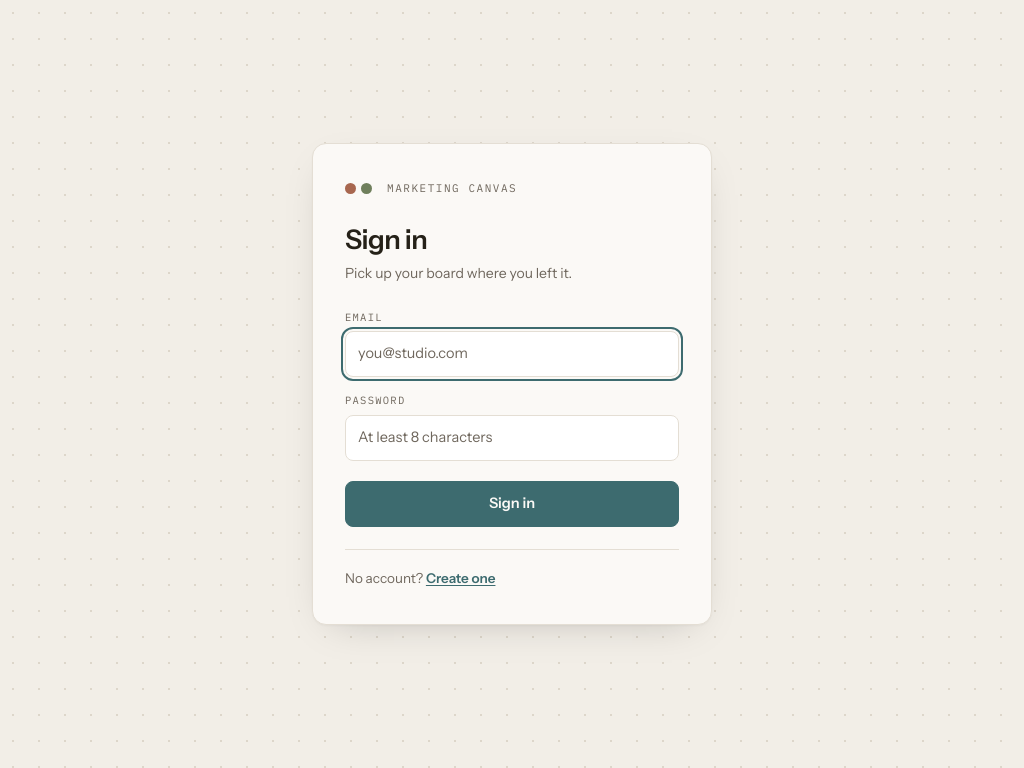
Test: Sign in › clears a field's error as soon as that field is edited
Check: the heading "Sign in" is shown, box [345,223,427,256]
Type "nope" into the field labelled "Email" at (512, 354), box [345,331,679,377]
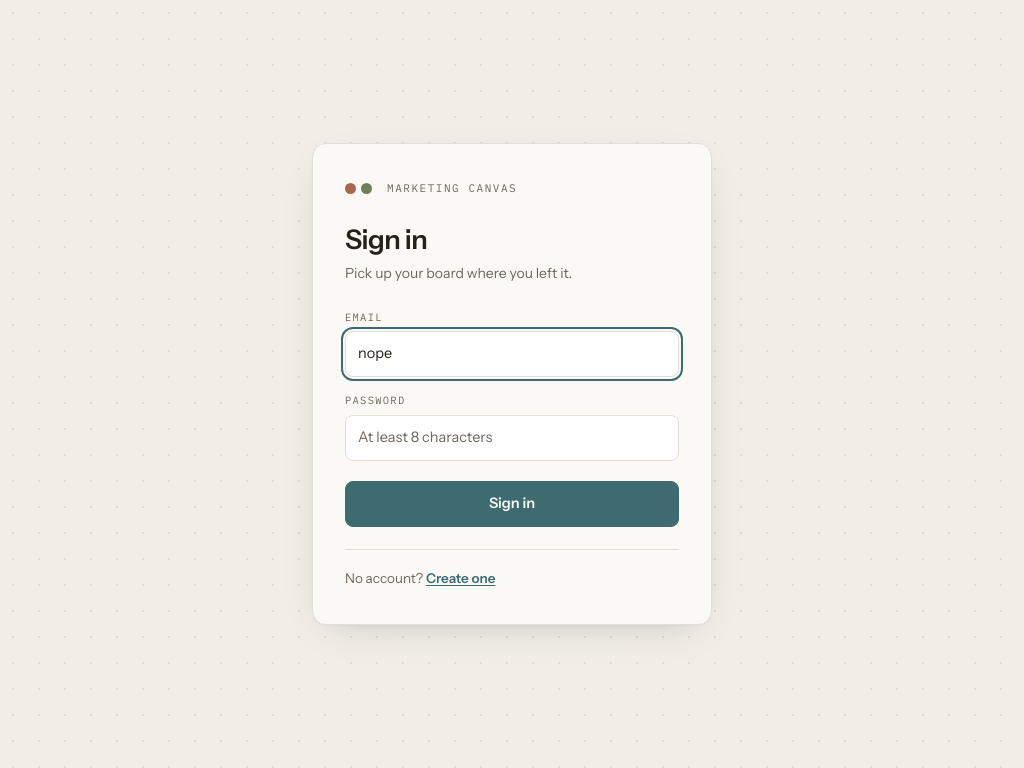
Type "12345678" into the password field labelled "Password" at (512, 438), box [345,415,679,461]
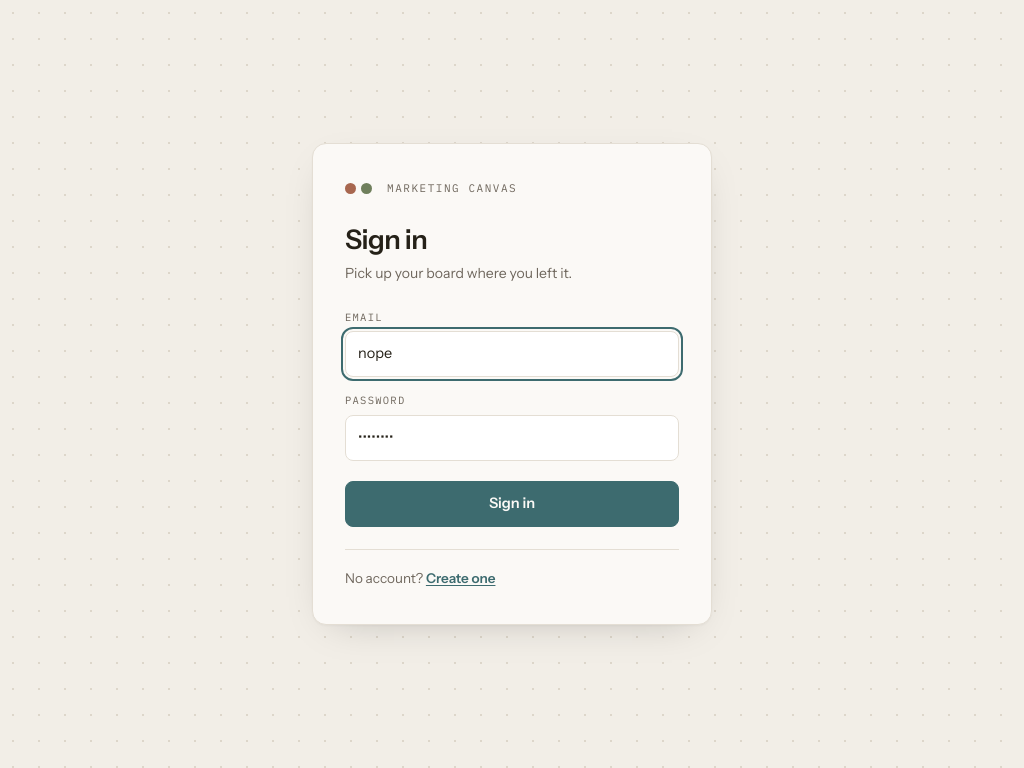
Click the button "Sign in" at (512, 504), box [345,480,679,526]
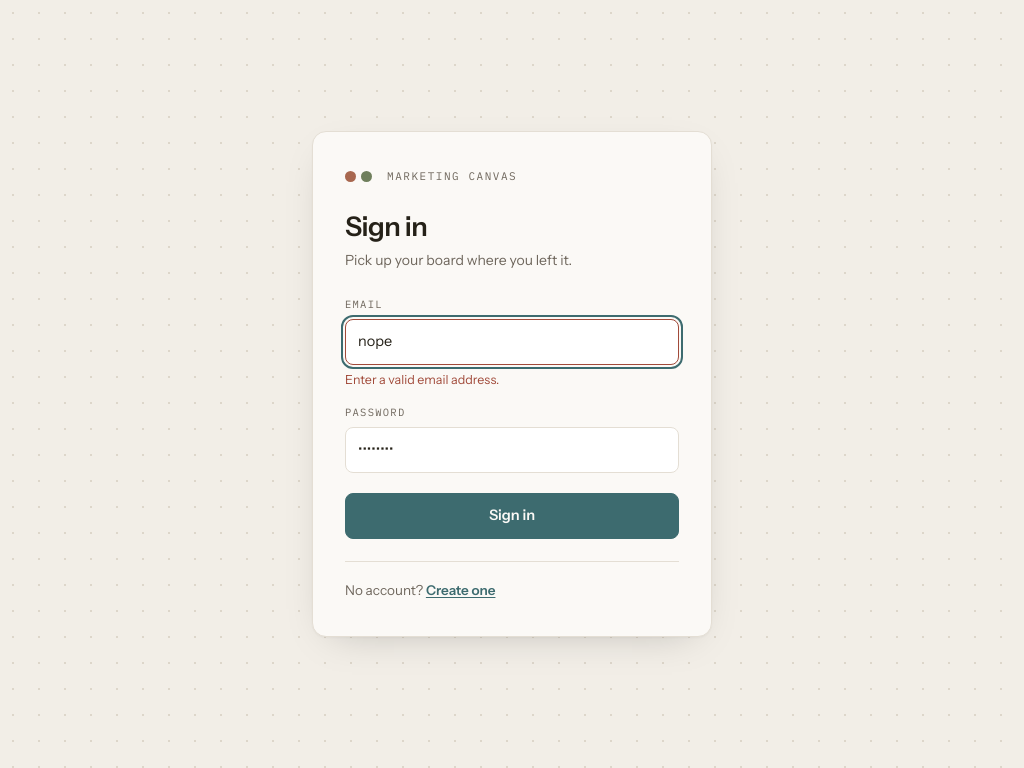
Check: the text "Enter a valid email address." is shown, box [345,372,499,387]
Replace the text in the field labelled "Email" with "nope@" at (512, 342), box [345,319,679,365]
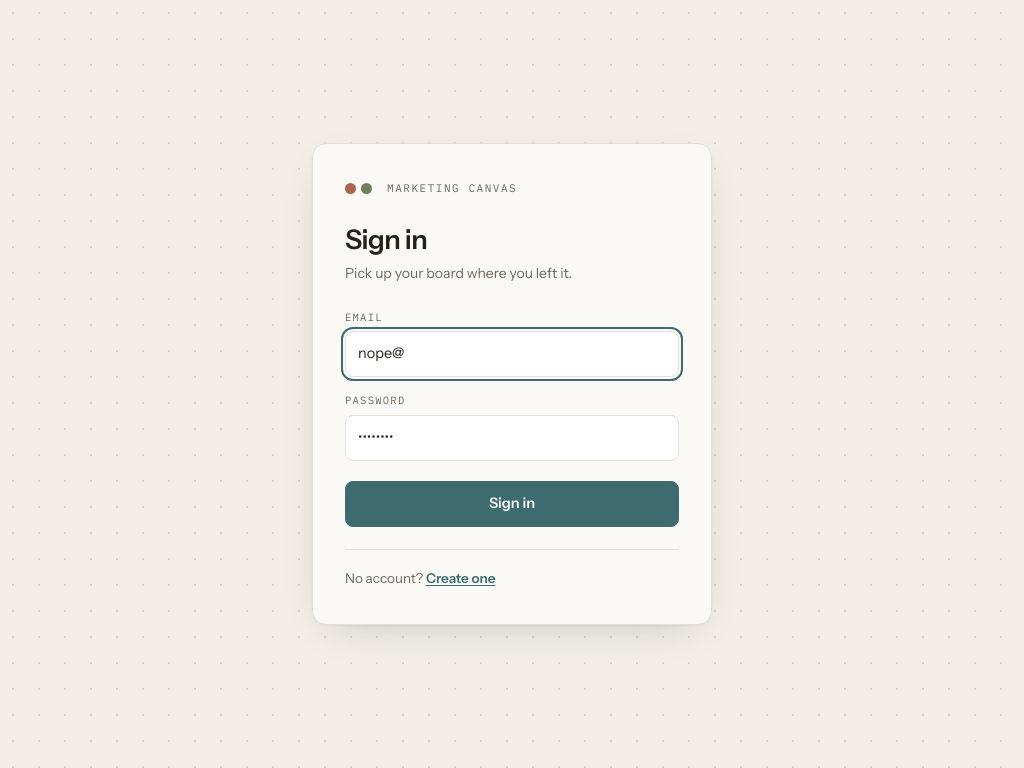
Check: the text "Enter a valid email address." is gone
